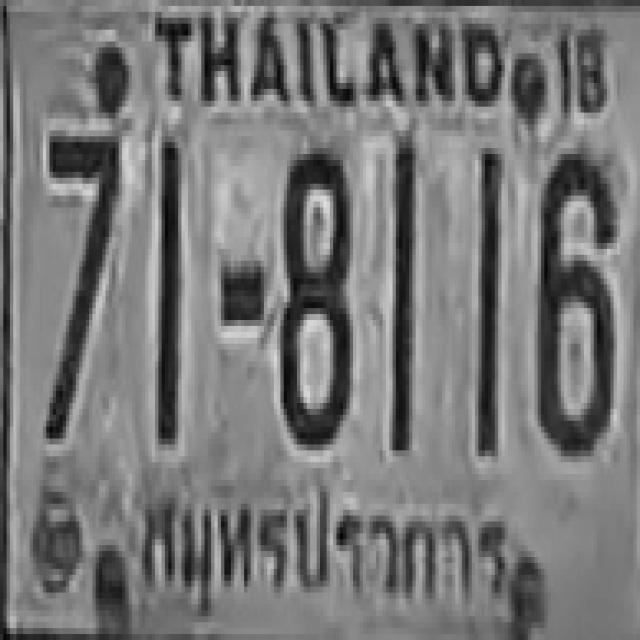1: (153, 134, 180, 442), (388, 137, 414, 450), (475, 146, 498, 454)
6: (534, 148, 614, 450)
7: (44, 130, 120, 438)
8: (277, 143, 350, 444)
SamutPrakan: (131, 482, 508, 605)
